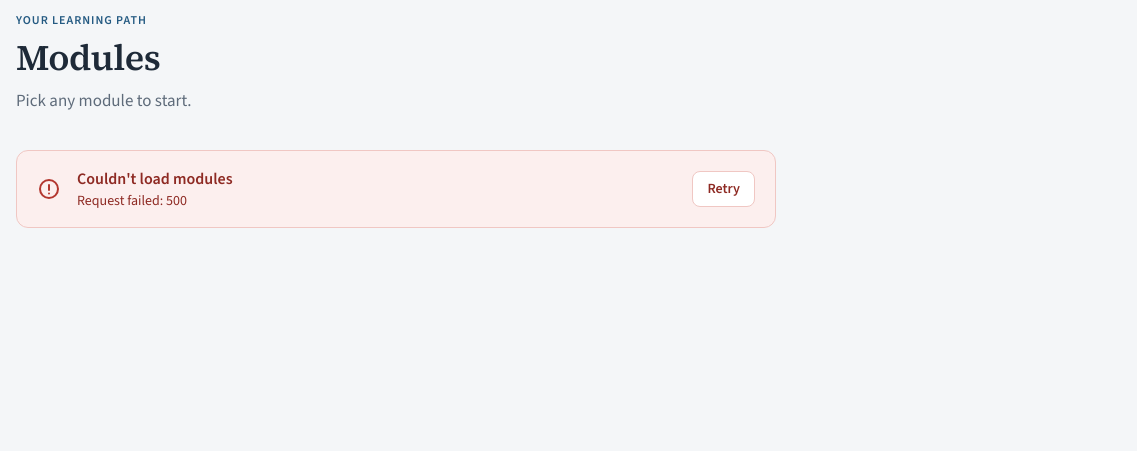
it: ModuleList › shows the error and refetches when Retry is clicked
The image size is (1137, 451).
Expected: the message shows "Couldn't load modules", [77,168,232,189]
Expected: the message shows "Request failed: 500", [77,191,187,210]
Step 1. Click the button "Retry" → (724, 189), box [692,171,755,207]
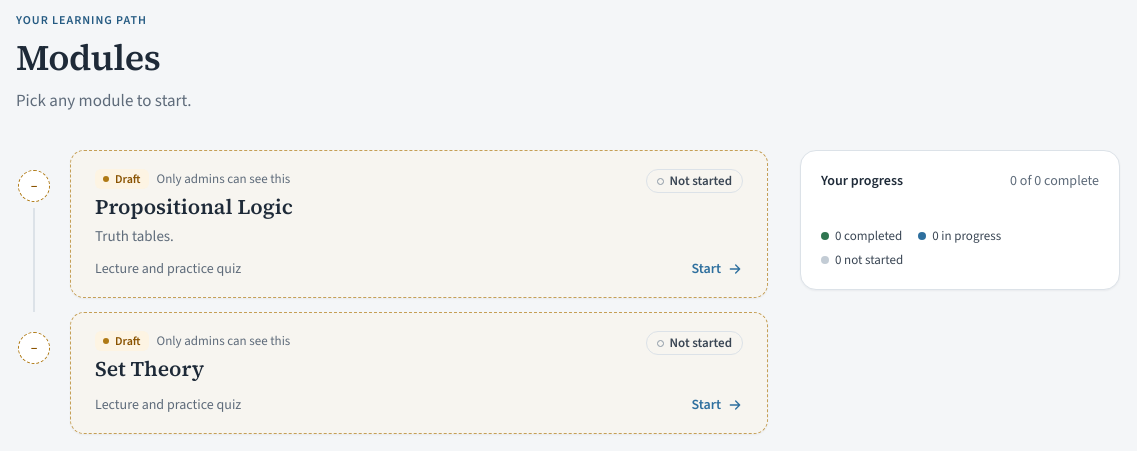
Now the link "Propositional Logic" is shown, box [70,150,768,298]
Now the message "Couldn't load modules Request failed: 500 Retry" is gone
